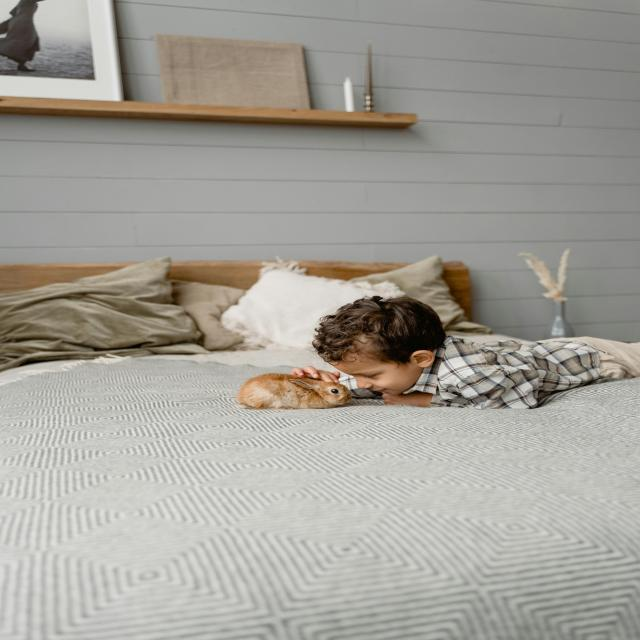lie: (254, 294, 640, 408)
